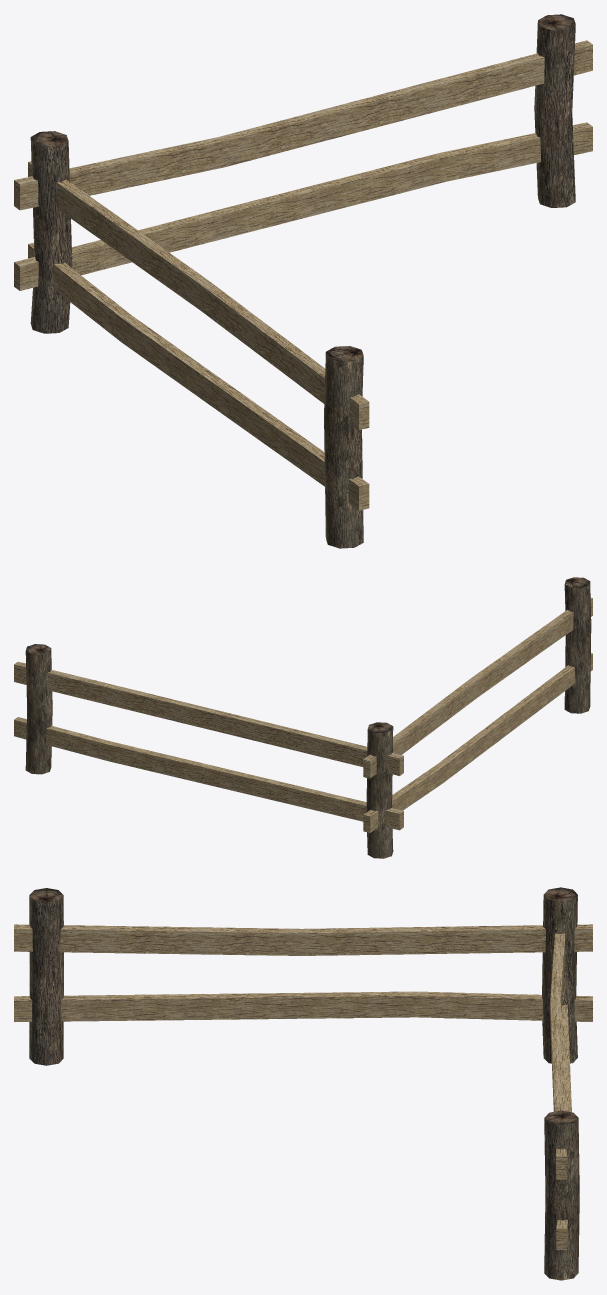
The model's file is woodenFence01.FBX.
3 renders of one model, top to bottom at view 1: azimuth 30°, elevation 25°; view 2: azimuth 150°, elevation 25°; view 3: azimuth 270°, elevation 25°, orthographic. The views are drawn at different scales.
Visible parts, largest first — view 1: wooden_fence_large_corner; view 2: wooden_fence_large_corner; view 3: wooden_fence_large_corner.
Part boxes in pixels (<box>): wooden_fence_large_corner: <box>14,14,592,548</box>; wooden_fence_large_corner: <box>14,577,592,858</box>; wooden_fence_large_corner: <box>14,887,592,1280</box>.
Bounding box in the file's own units: 482 × 150 × 482.
